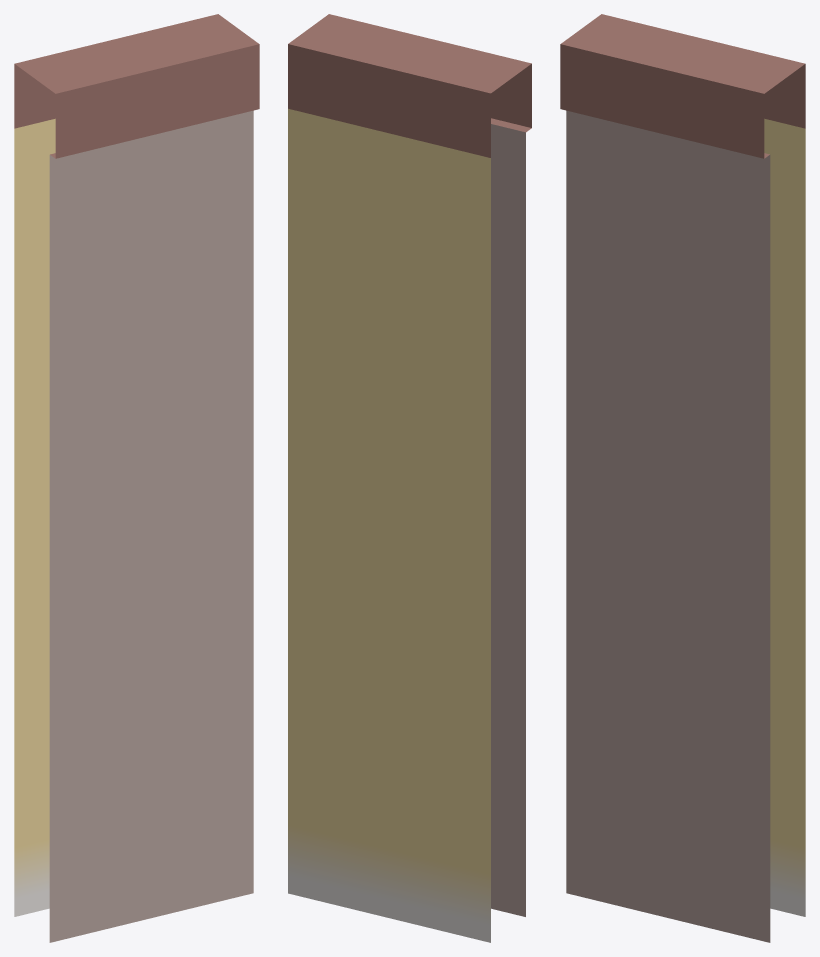
Rendered from wall_outside.fbx.
3 views of the same model, side by side, from view 1: azimuth 30°, elevation 25°; view 2: azimuth 150°, elevation 25°; view 3: azimuth 330°, elevation 25° (orthographic).
Visible parts, largest first — view 1: wall_l; view 2: wall_l; view 3: wall_l.
Part boxes in pixels (x1,y1,x2,y2): wall_l: (14,14,259,942); wall_l: (288,14,531,942); wall_l: (560,14,805,942).
Bounding box in the file's own units: 100 × 35 × 400.
